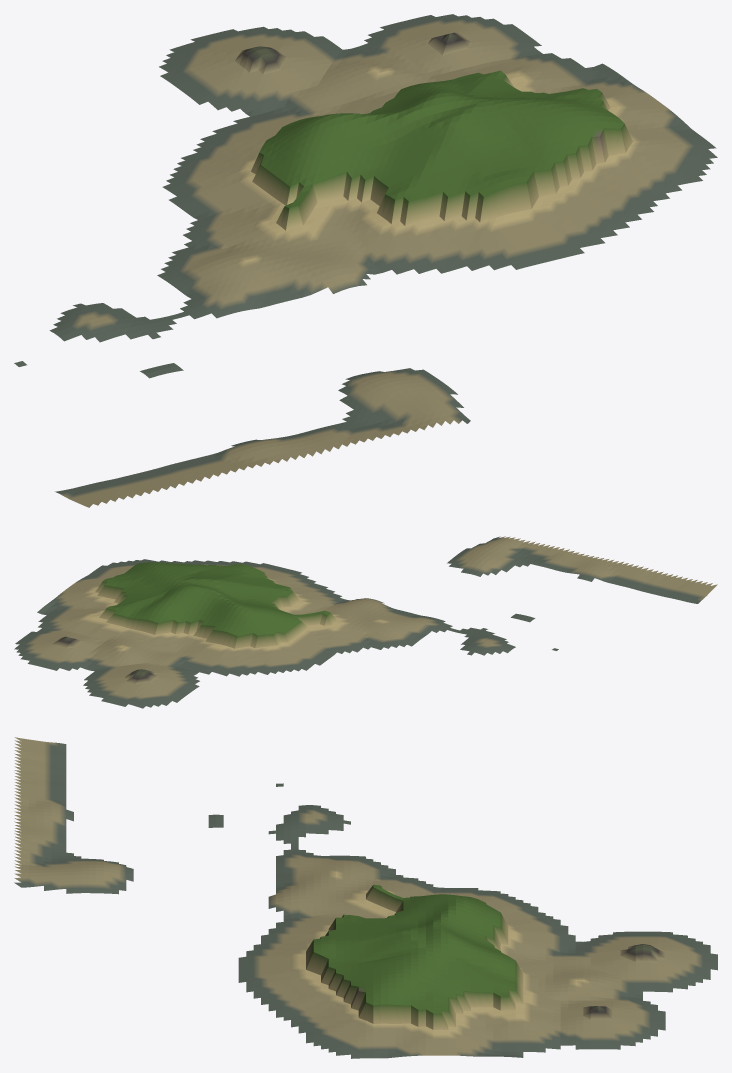
File: coast_tile_x2z1.glb
3 views of the same model, one above another, from view 1: azimuth 30°, elevation 25°; view 2: azimuth 150°, elevation 25°; view 3: azimuth 270°, elevation 25° (orthographic). The views are drawn at different scales.
Parts seen in each view (by area): view 1: geometry_0; view 2: geometry_0; view 3: geometry_0.
Boxes of the visible parts, left/top/right/bottom form: geometry_0: left=14, top=14, right=717, bottom=507; geometry_0: left=14, top=536, right=717, bottom=708; geometry_0: left=14, top=737, right=717, bottom=1058.
Size of the model in its own units: 594 by 40.53 by 564.
